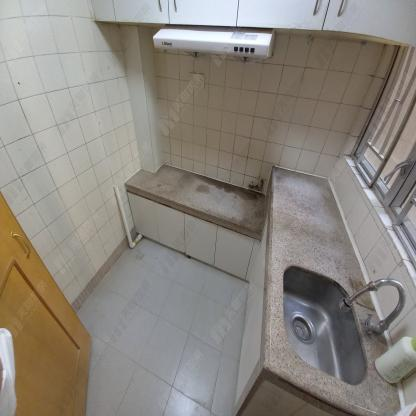Cupboard: (130, 193, 261, 285)
Exhaust Hood: (154, 27, 275, 61)
Faucet: (336, 261, 409, 336)
Sink: (284, 264, 367, 384)
